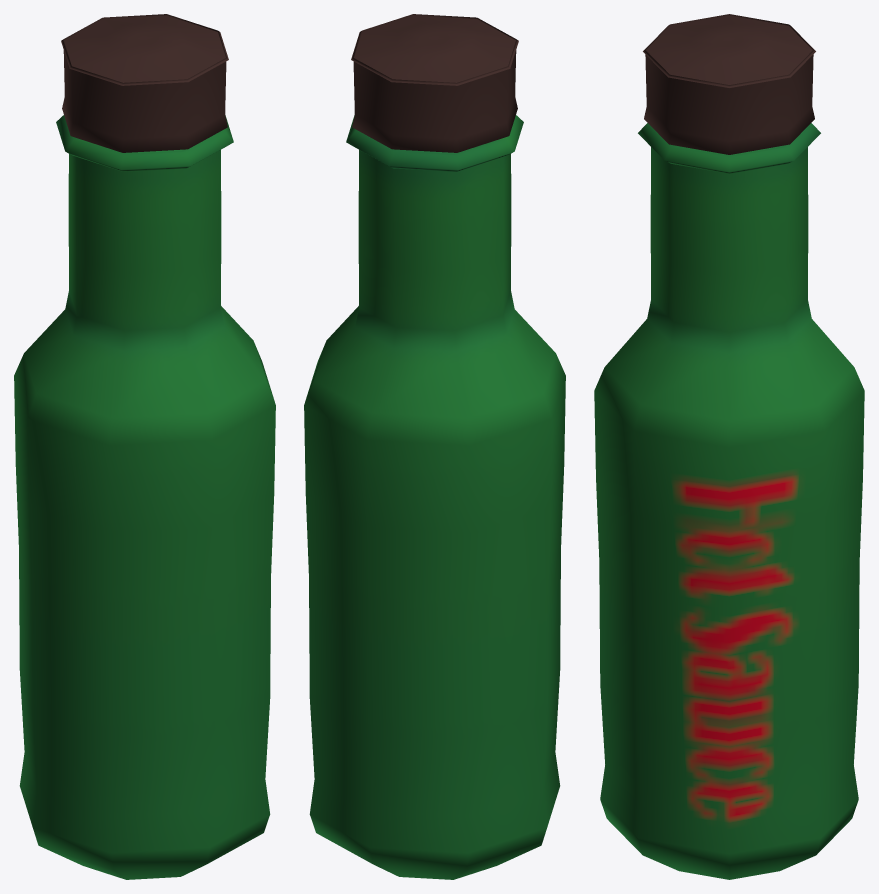
File: Hot Sauce Glass Container.fbx
3 renders of one model, left to right at view 1: azimuth 30°, elevation 25°; view 2: azimuth 150°, elevation 25°; view 3: azimuth 270°, elevation 25°, orthographic.
Visible parts, largest first — view 1: Hot_Sauce_Glass_Container; view 2: Hot_Sauce_Glass_Container; view 3: Hot_Sauce_Glass_Container.
Boxes of the visible parts, left/top/right/bottom form: Hot_Sauce_Glass_Container: left=14, top=14, right=275, bottom=879; Hot_Sauce_Glass_Container: left=304, top=14, right=565, bottom=879; Hot_Sauce_Glass_Container: left=594, top=14, right=864, bottom=879.
Bounding box in the file's own units: 7.16 × 23.71 × 7.16.
1 material, 1 textured.
